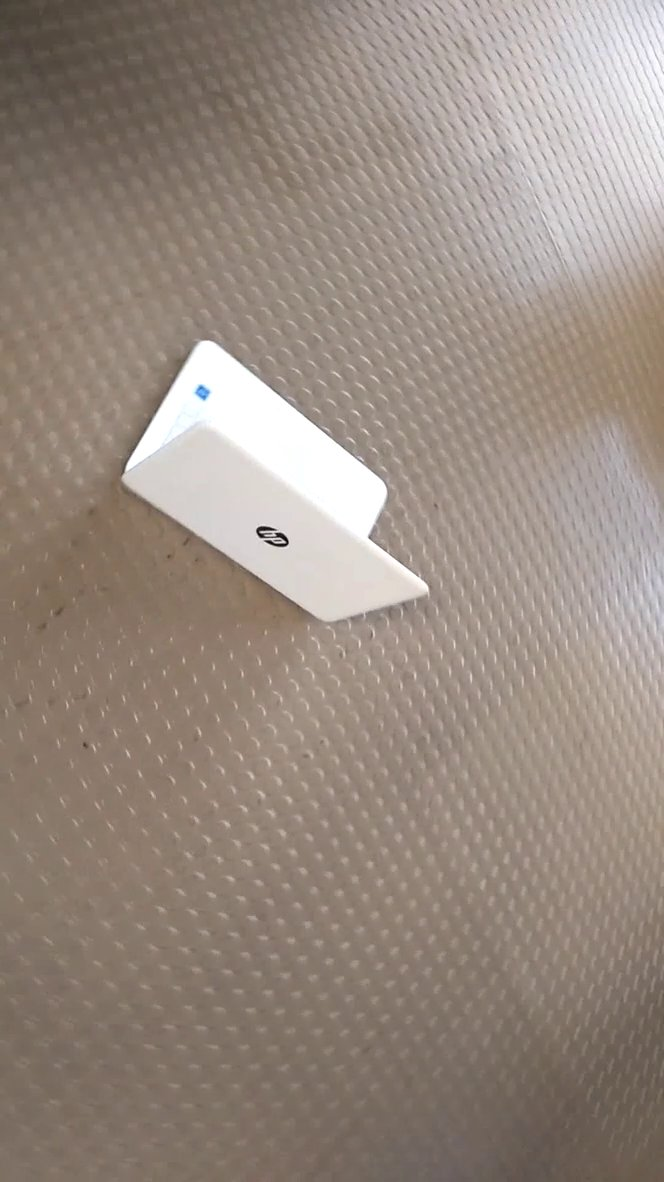laptop: (108, 325, 437, 653)
